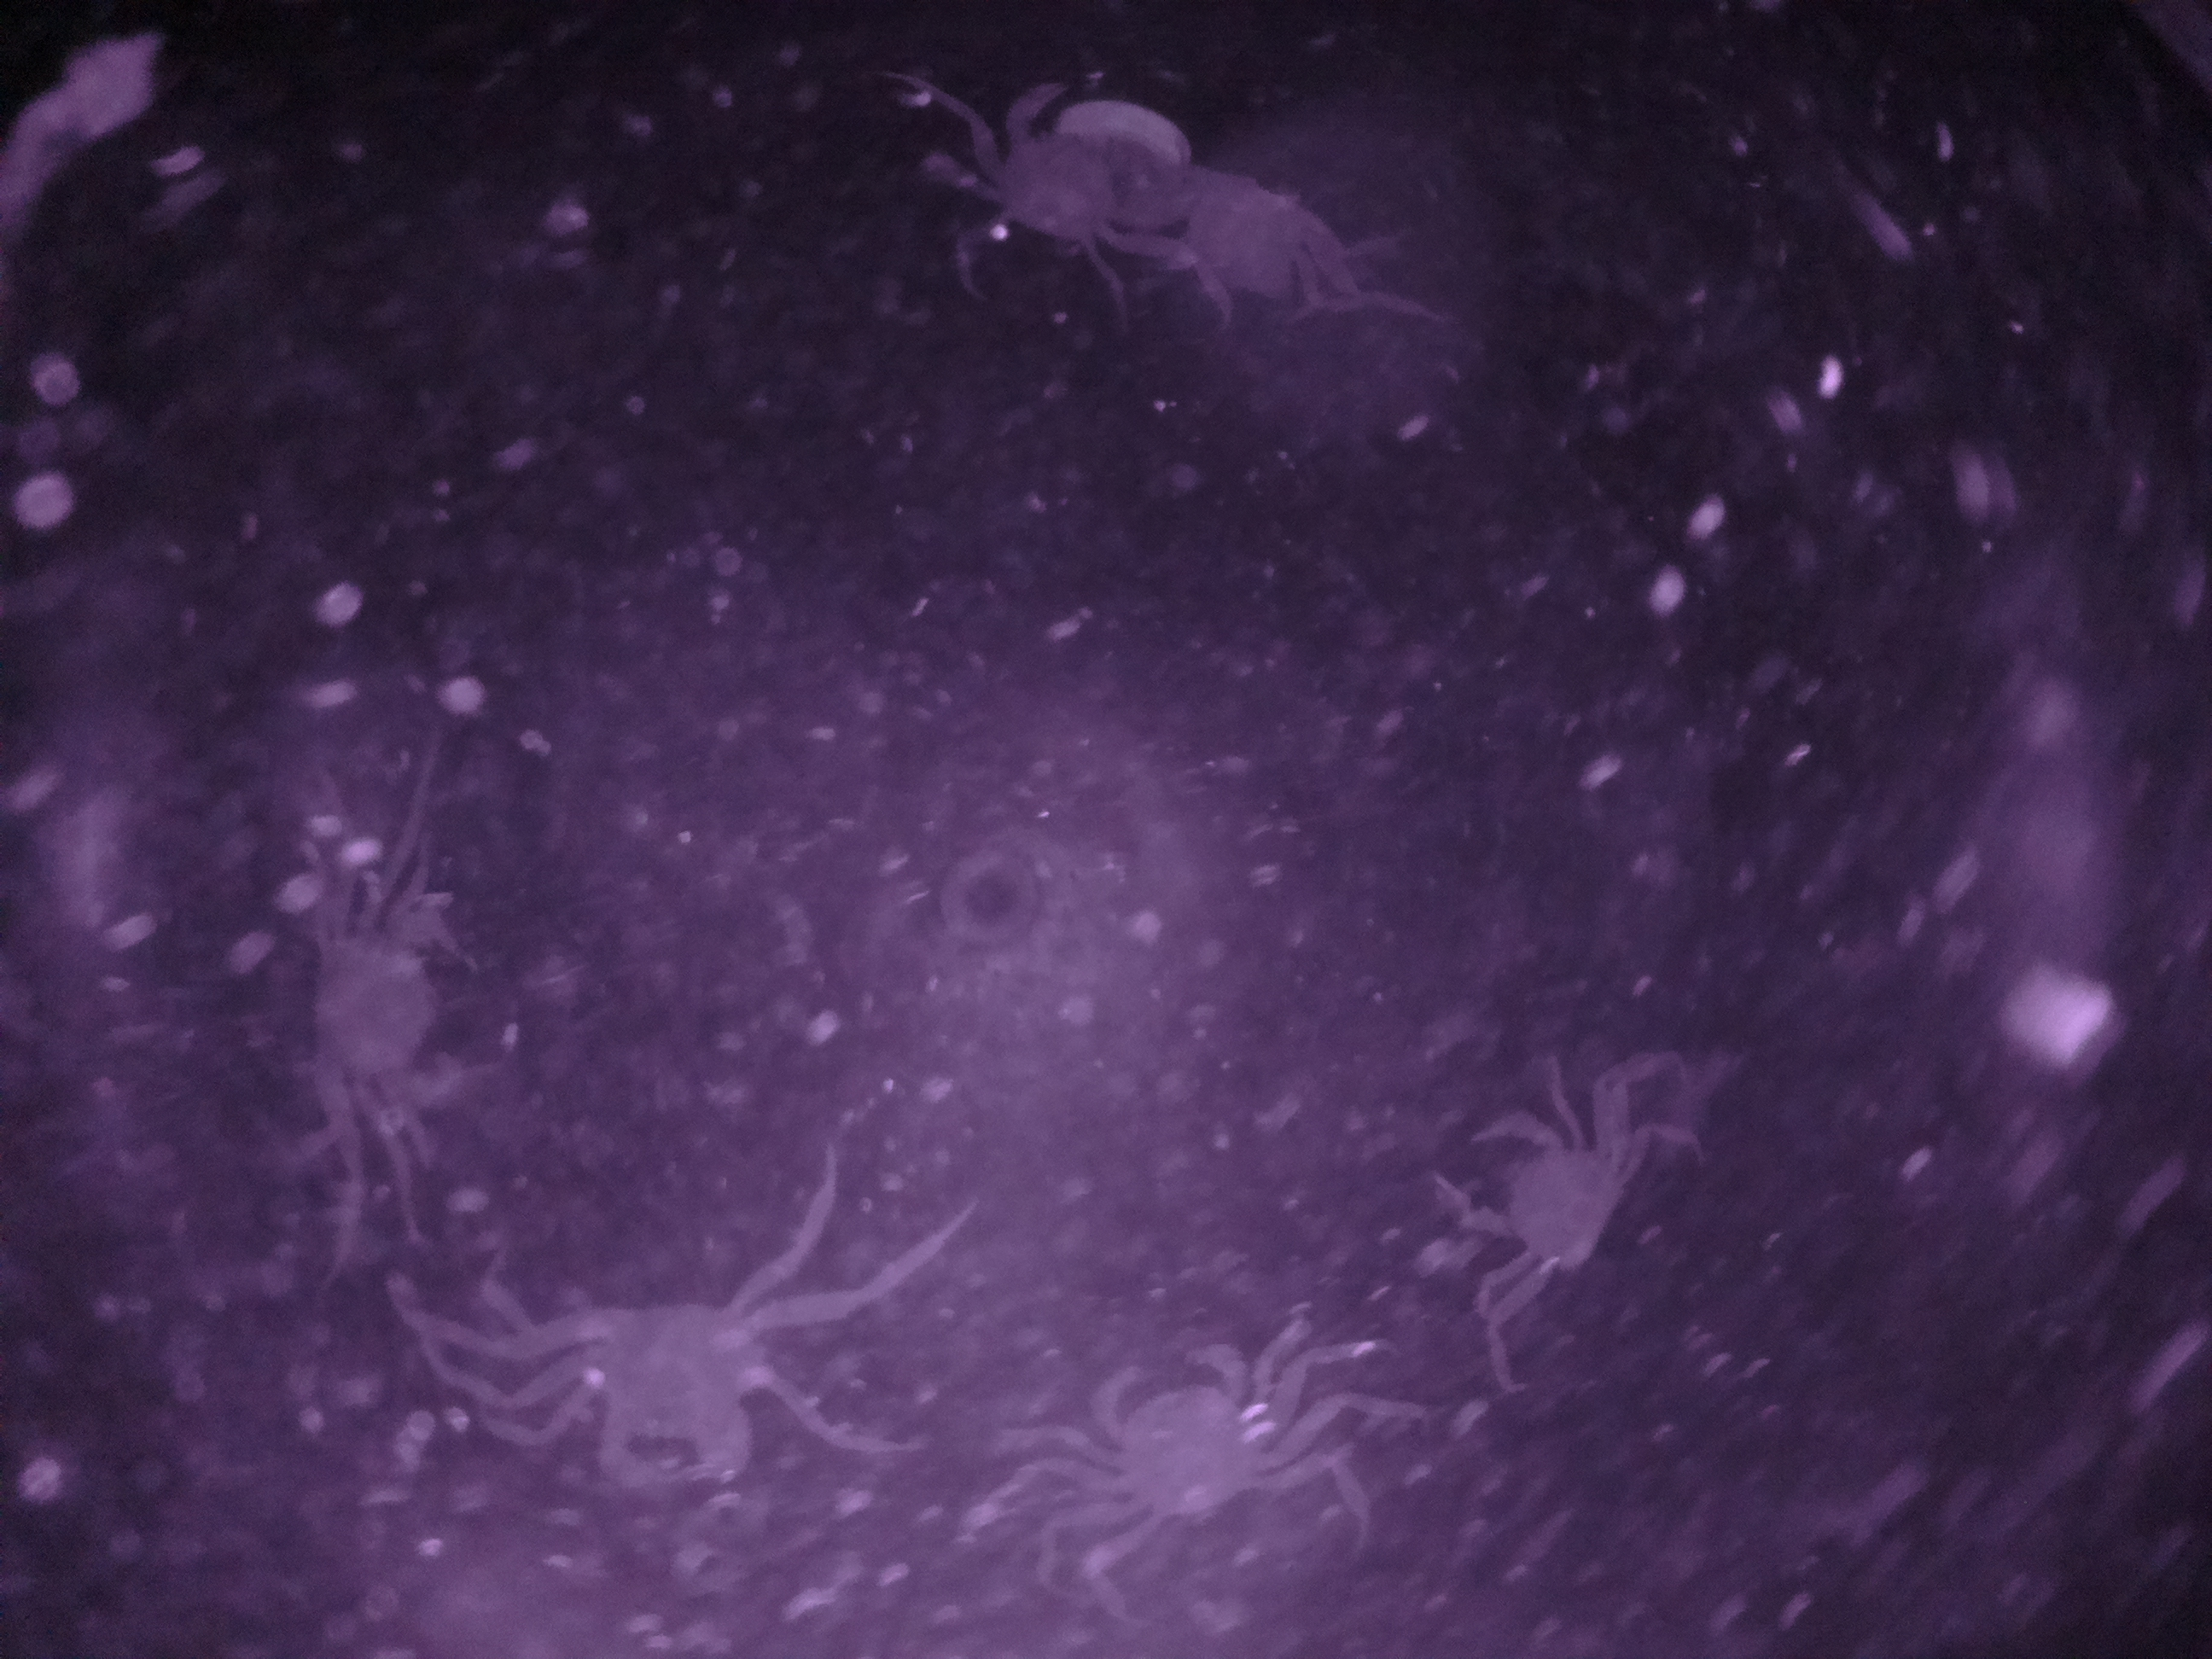Crab: (514, 1279, 810, 1516), (1061, 1326, 1305, 1558), (1411, 1098, 1644, 1277)
